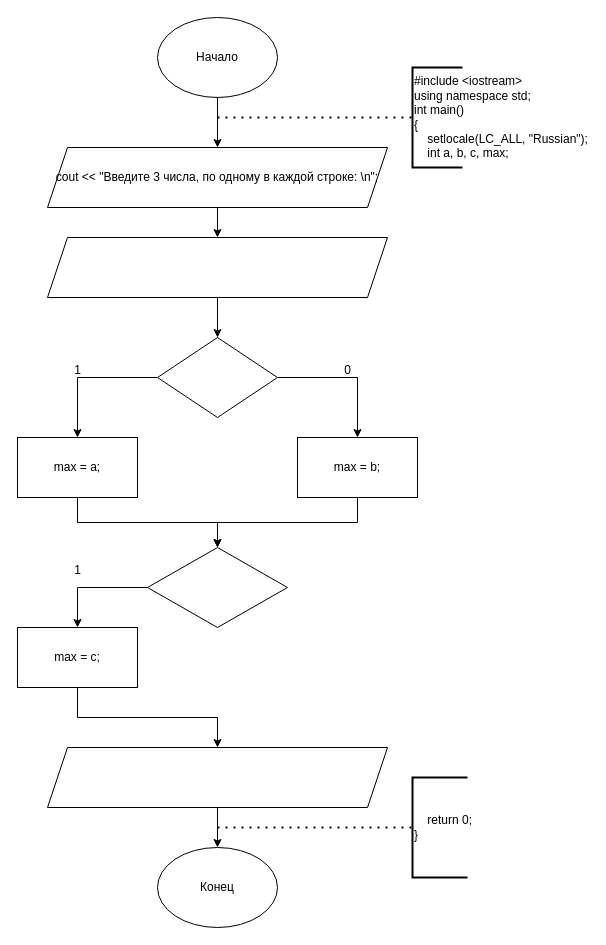
Some shapes in this 606 by 945 pixel diagram are drawn without their labels. The shapes that lost their labels are listed below. From the top down, each one's box as (x1, y1, x2, y2) in pixels, then its label:
(46, 236, 388, 298): cin >> a >> b >> c;
(156, 336, 278, 418): if (a >= b)
(146, 546, 288, 628): if (c > max)
(46, 746, 388, 808): cout << max << endl;
